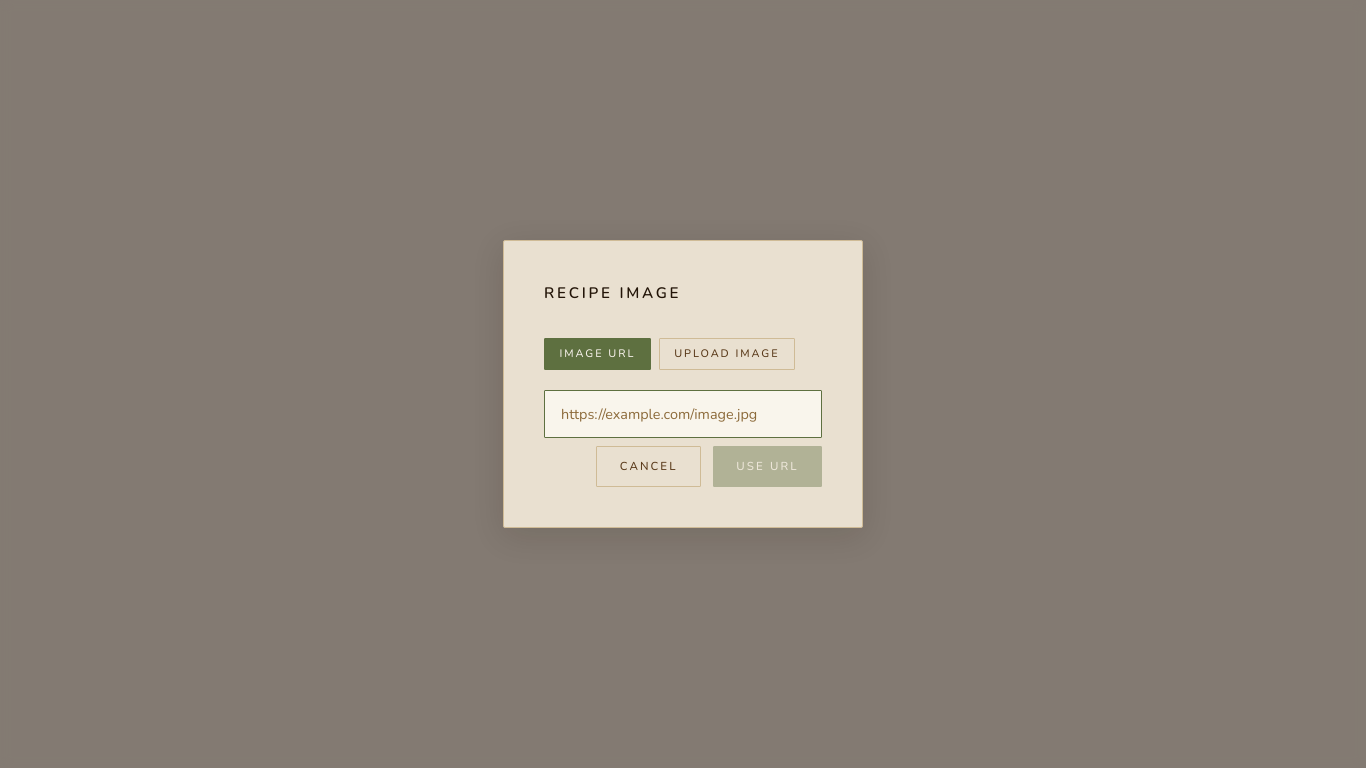
it: ImagePickerDialog › switches to file input when Upload Image tab is clicked
Click the button "Upload Image" at [727, 354], box left=659, top=338, right=795, bottom=370
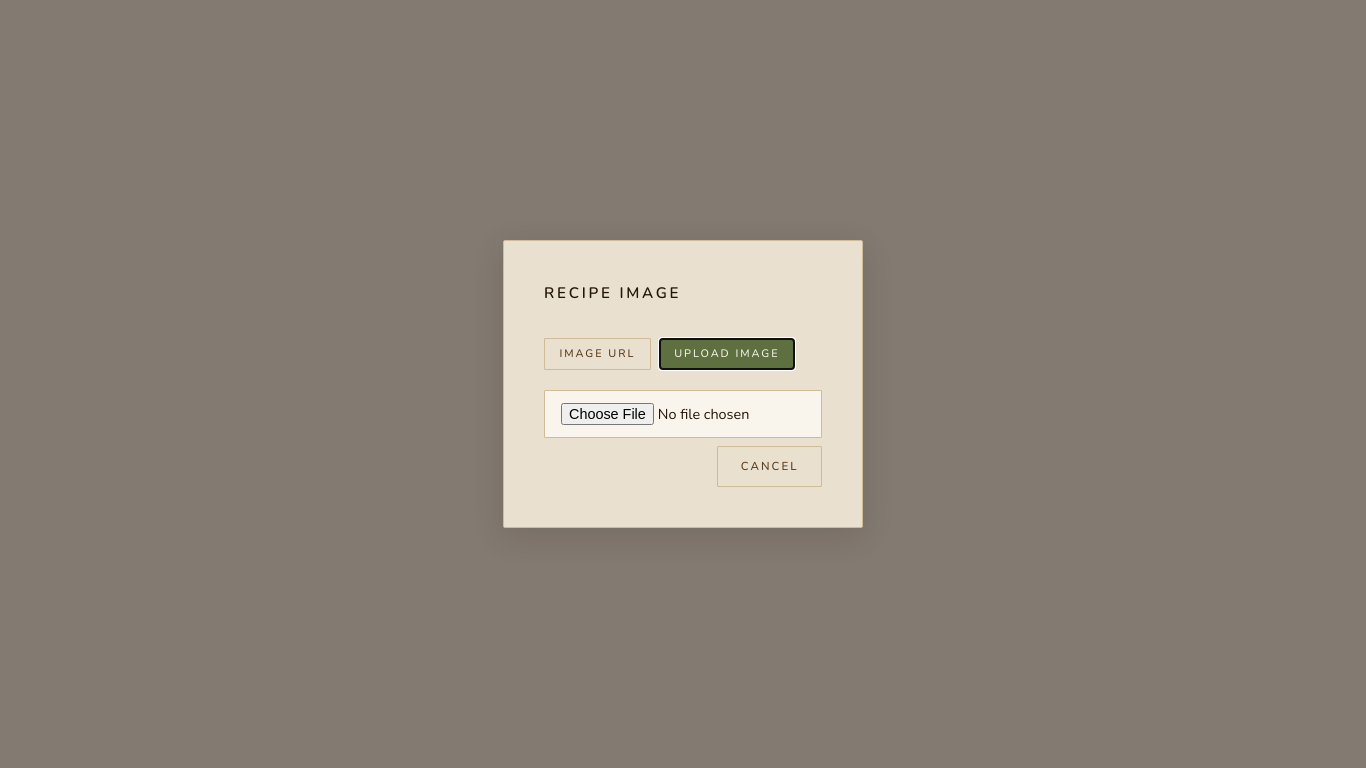
Expected: the field with placeholder "https://example.com/image.jpg" is not shown
Expected: the file field named "Upload image file" is shown, left=544, top=390, right=822, bottom=438
